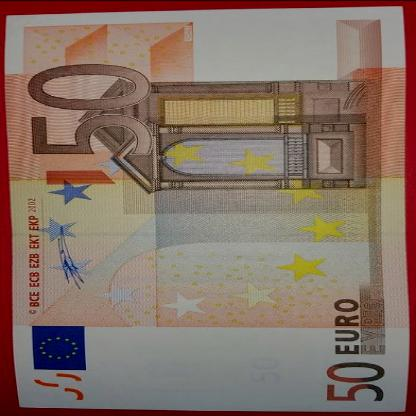euro_banknote: (9, 12, 410, 412)
